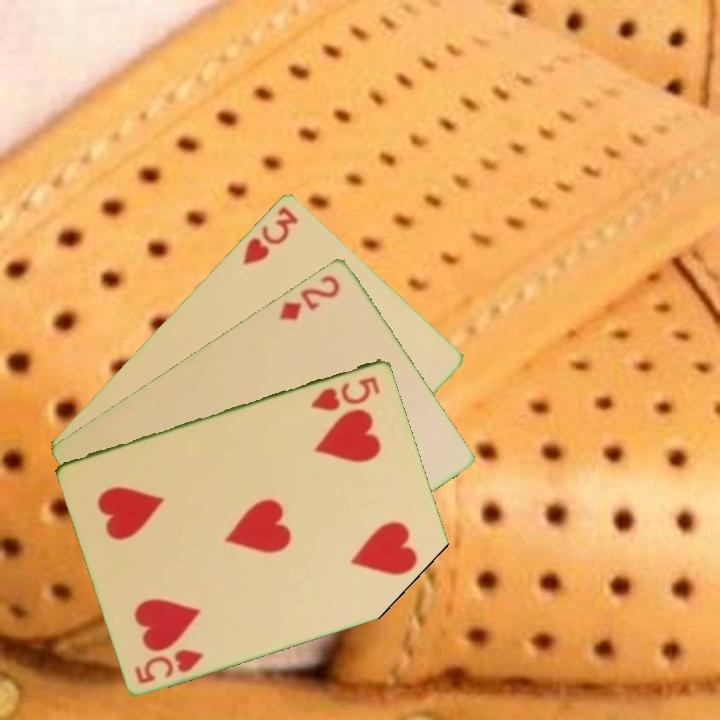2d: (275, 270, 343, 323)
3h: (239, 202, 301, 268)
5h: (308, 372, 384, 413), (131, 645, 207, 686)
